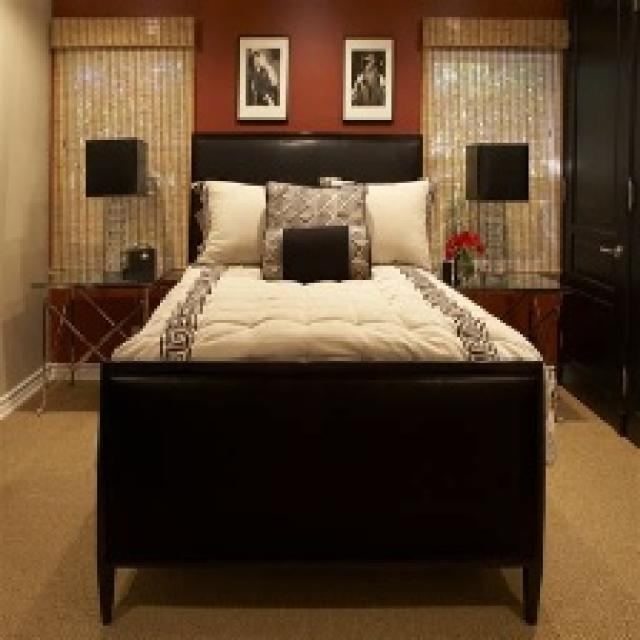Bed: (95, 128, 554, 626)
